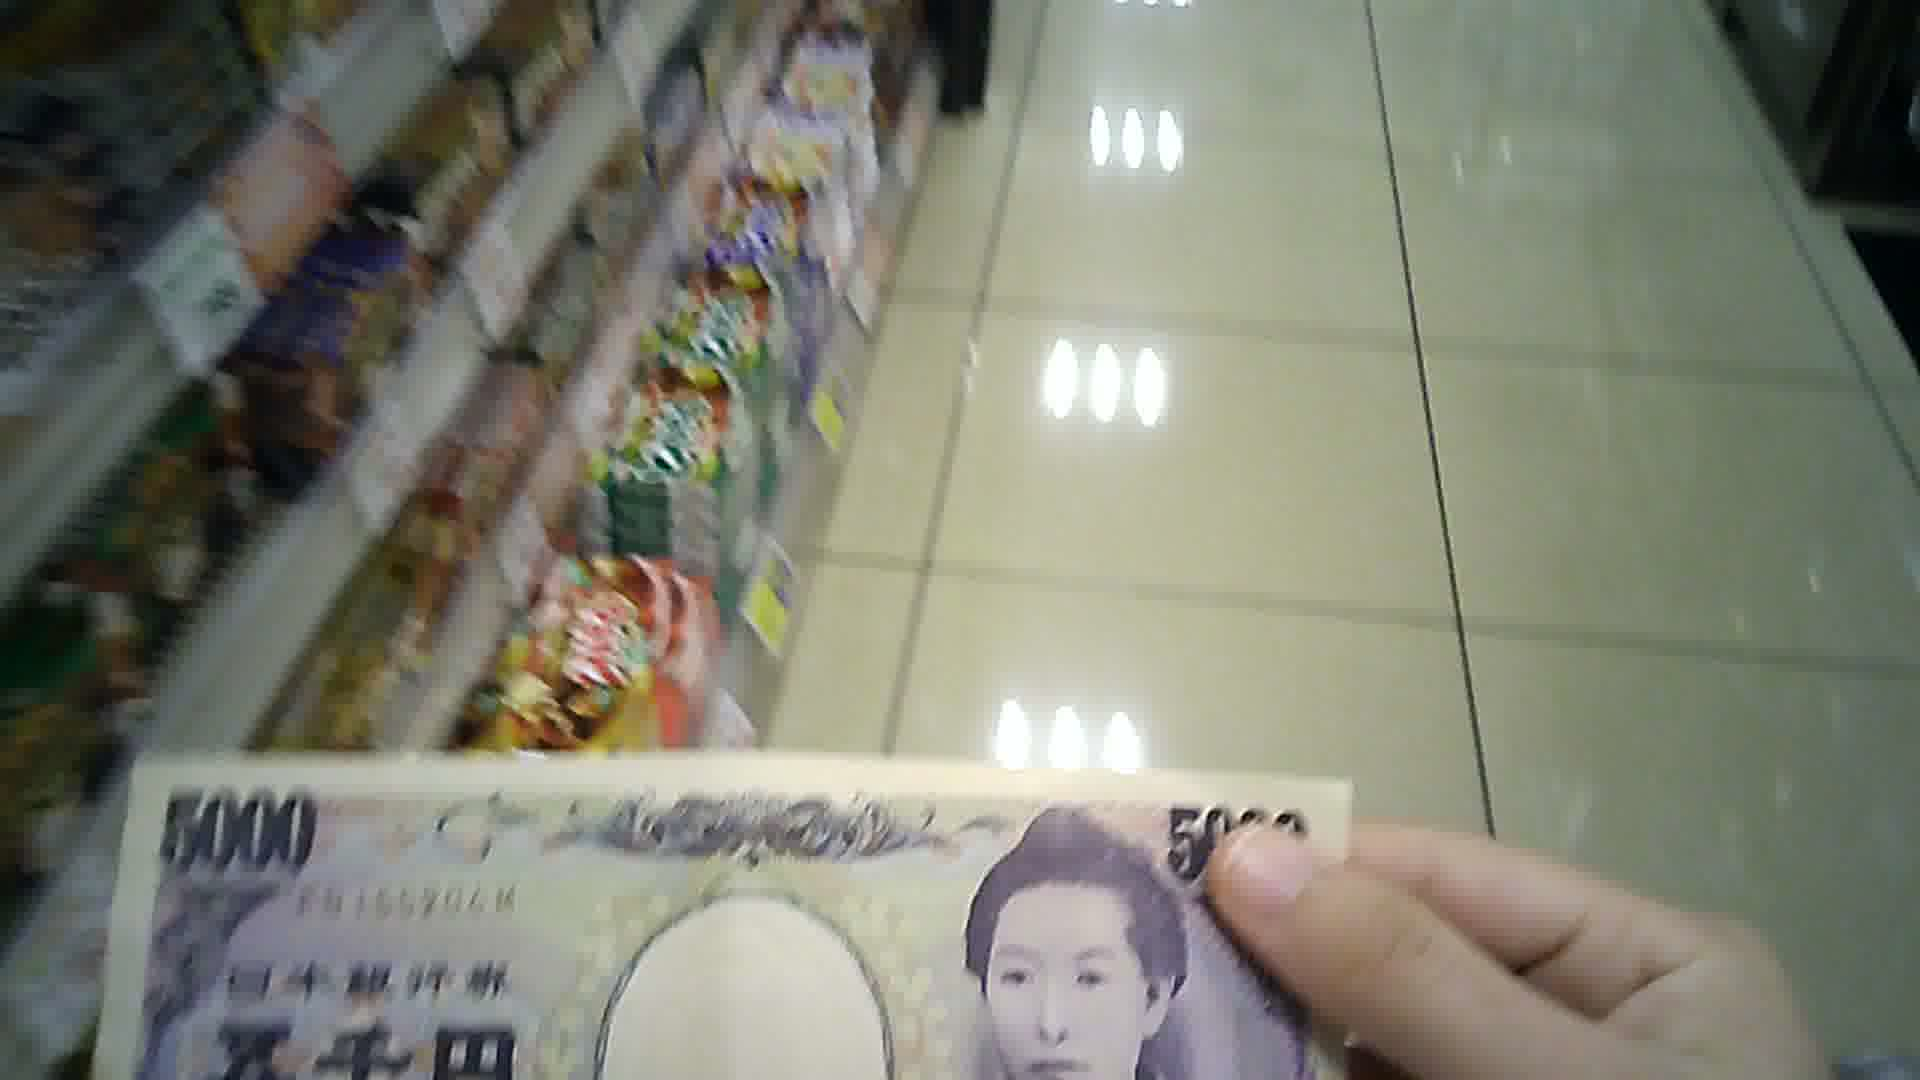5,000 Yen: (82, 738, 1364, 1072)
